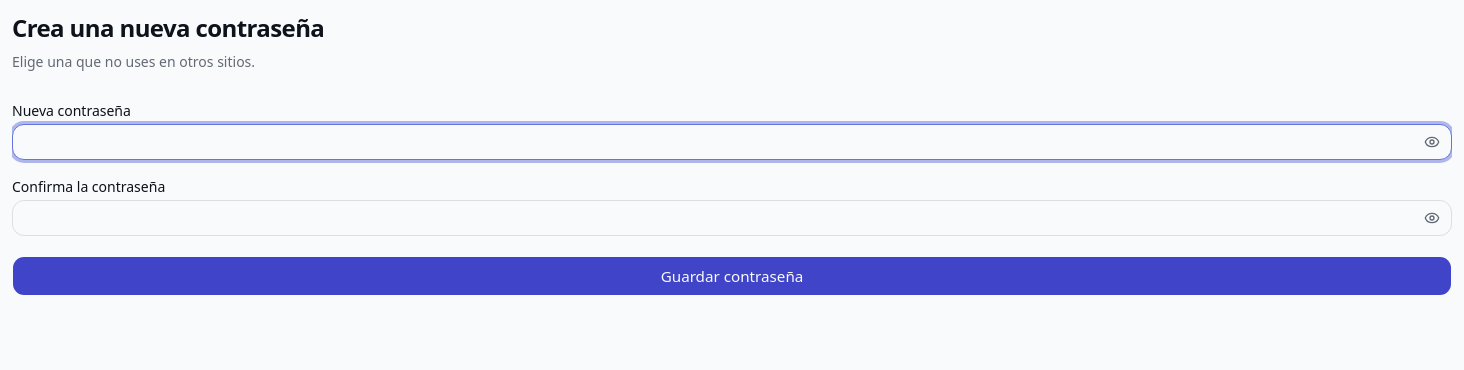
ResetPasswordPage › checks both passwords match
The width and height of the screenshot is (1464, 370).
In the password field labelled "Nueva contraseña": (732, 142) [12,124,1452,160], type "otra frase muy segura"
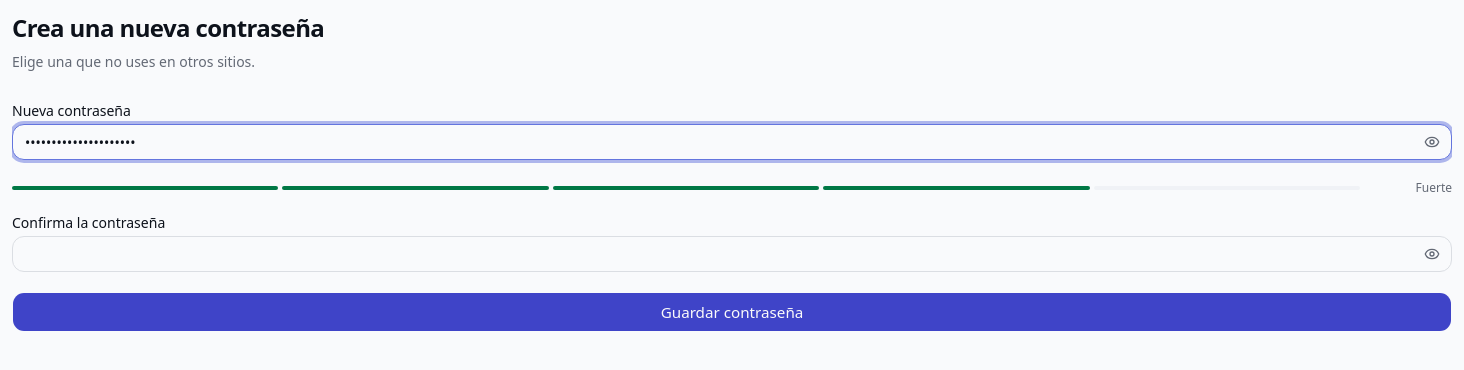
In the password field labelled "Confirma la contraseña": (732, 254) [12,236,1452,272], type "otra frase distinta"
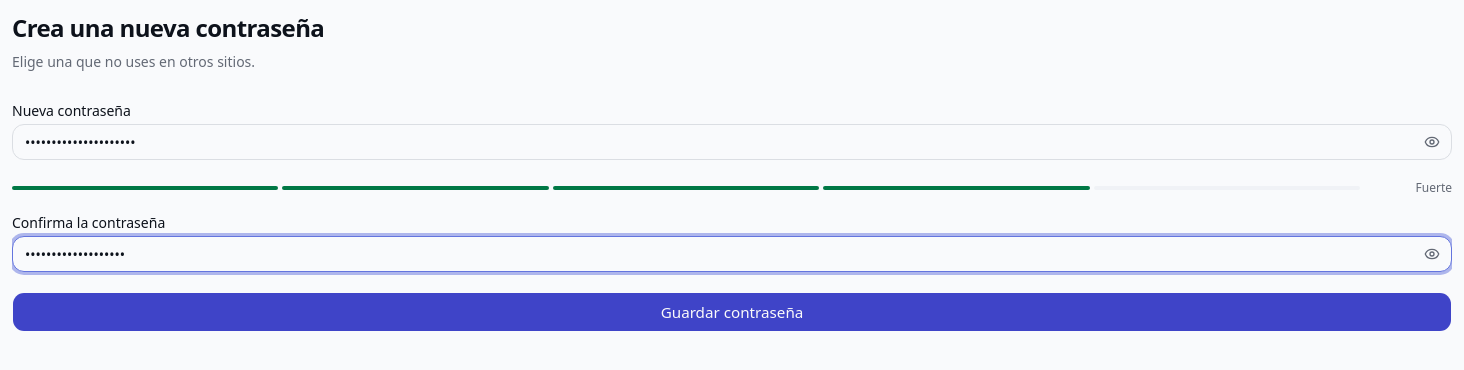
Click the button "Guardar contraseña": (732, 312) [12,292,1452,332]
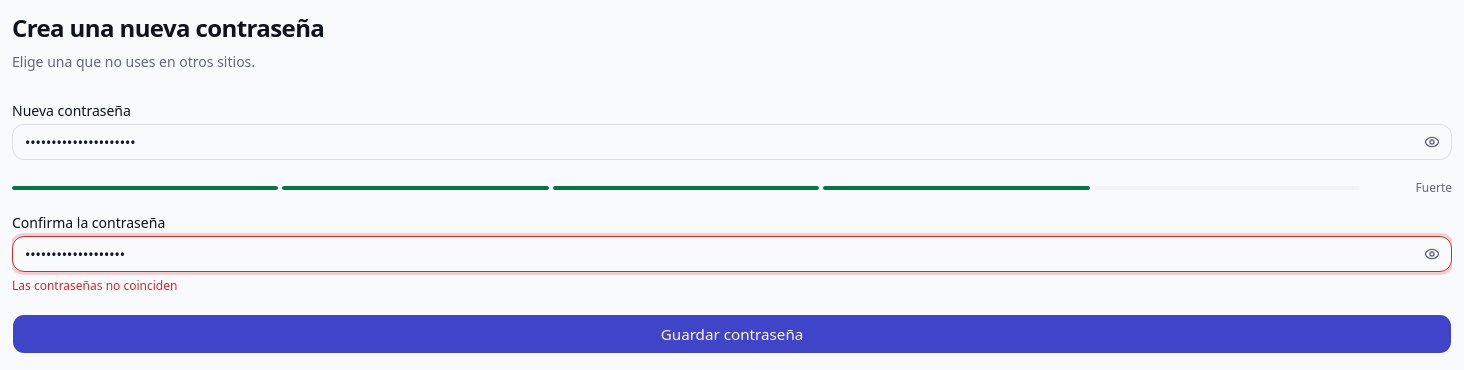
Check: the text "Las contraseñas no coinciden" is shown, box [12,277,177,294]
